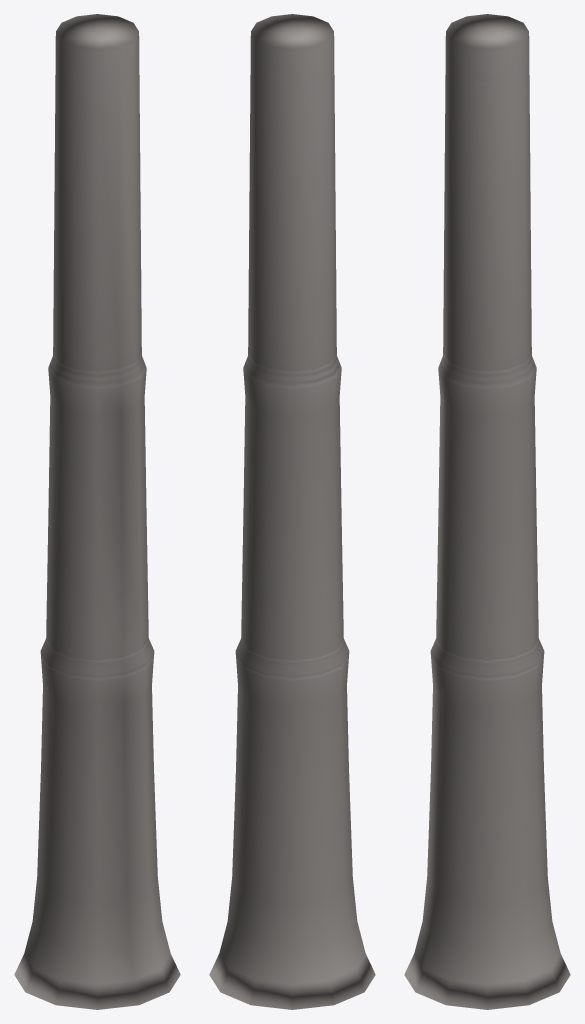
File: pine-trunk-unit-tripo-original.glb
3 renders of one model, left to right at view 1: azimuth 30°, elevation 25°; view 2: azimuth 150°, elevation 25°; view 3: azimuth 270°, elevation 25°, orthographic.
Parts seen in each view (by area): view 1: Authored_surface; view 2: Authored_surface; view 3: Authored_surface.
Part boxes in pixels (x1,y1,x2,y2): Authored_surface: (14, 14, 180, 1009); Authored_surface: (209, 14, 375, 1009); Authored_surface: (404, 14, 570, 1009).
Bounding box in the file's own units: 0.16 × 1 × 0.16.
1 material, 1 textured.
